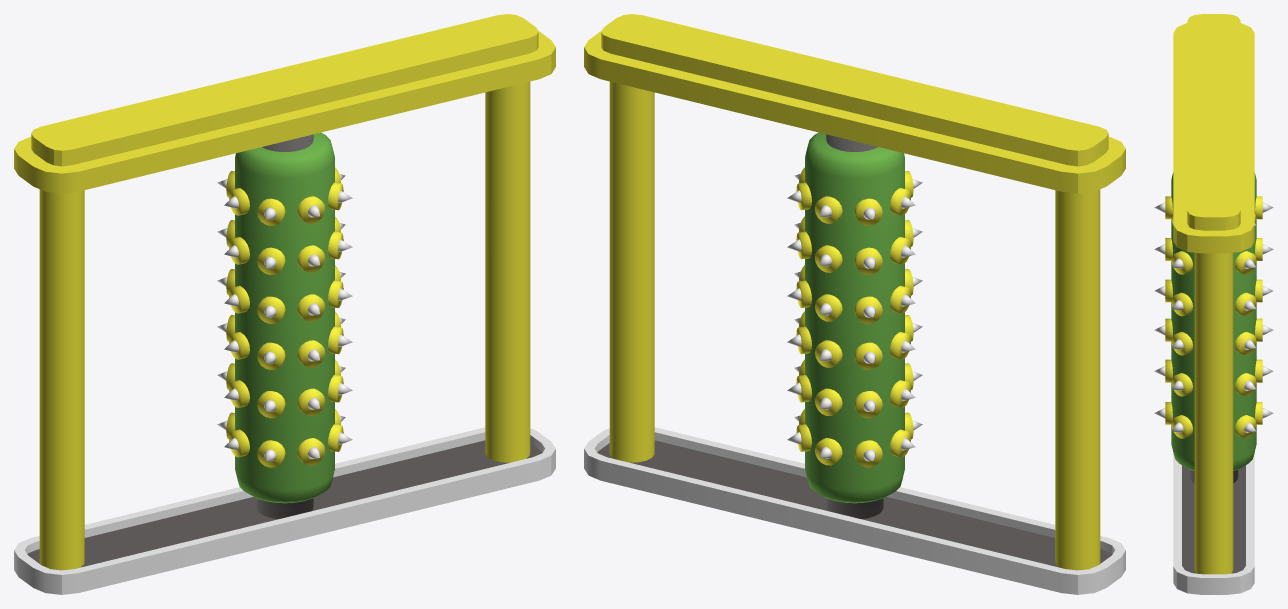
Rendered from Obstacle 21 V2.fbx.
3 renders of one model, left to right at view 1: azimuth 30°, elevation 25°; view 2: azimuth 150°, elevation 25°; view 3: azimuth 270°, elevation 25°, orthographic. The views are drawn at different scales.
Visible parts, largest first — view 1: O21 Part 1, O21 Part 2; view 2: O21 Part 1, O21 Part 2; view 3: O21 Part 1, O21 Part 2.
Boxes of the visible parts, box(x1,y1,x2,y2) form: O21 Part 1: box(14, 14, 555, 594); O21 Part 2: box(217, 132, 352, 519); O21 Part 1: box(584, 14, 1125, 594); O21 Part 2: box(787, 132, 922, 519); O21 Part 1: box(1173, 14, 1254, 594); O21 Part 2: box(1154, 172, 1273, 482).
Bounding box in the file's own units: 282 × 231 × 66.38.
Materials: 1 (1 with a texture image).
